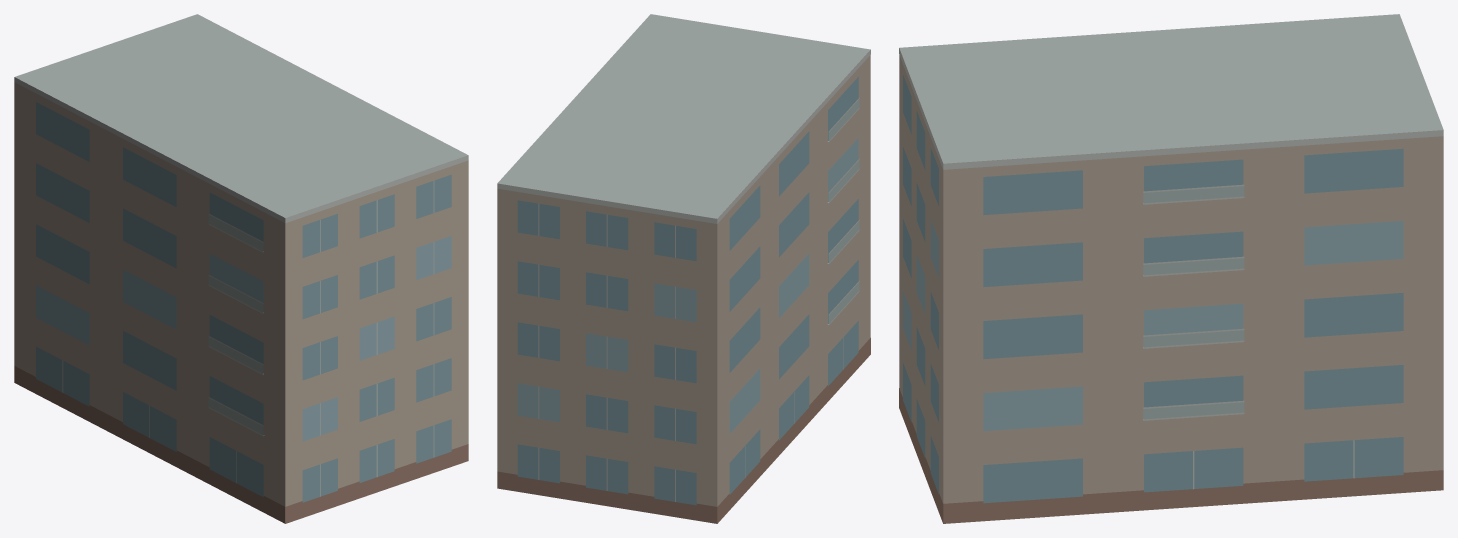
File: survey-upis-32714472.glb
3 renders of one model, left to right at view 1: azimuth 30°, elevation 25°; view 2: azimuth 150°, elevation 25°; view 3: azimuth 270°, elevation 25°, orthographic. The views are drawn at different scales.
Parts seen in each view (by area): view 1: survey-upis-32714472.tmp; view 2: survey-upis-32714472.tmp; view 3: survey-upis-32714472.tmp.
Part boxes in pixels (x1,y1,x2,y2): survey-upis-32714472.tmp: [14, 14, 468, 523]; survey-upis-32714472.tmp: [497, 14, 870, 523]; survey-upis-32714472.tmp: [899, 14, 1443, 523].
Bounding box in the file's own units: 12.89 × 14.44 × 19.8.
